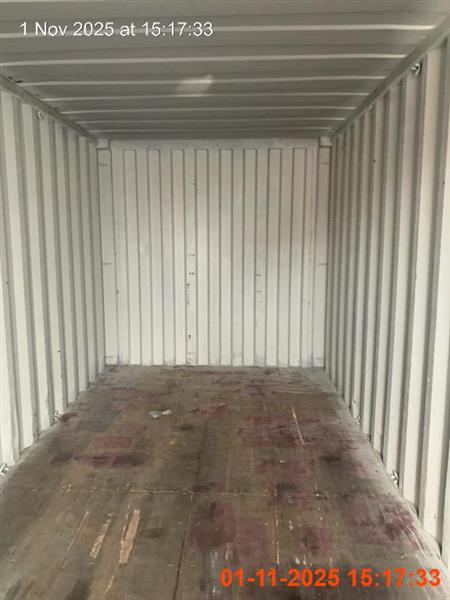broken: (0, 363, 449, 599)
